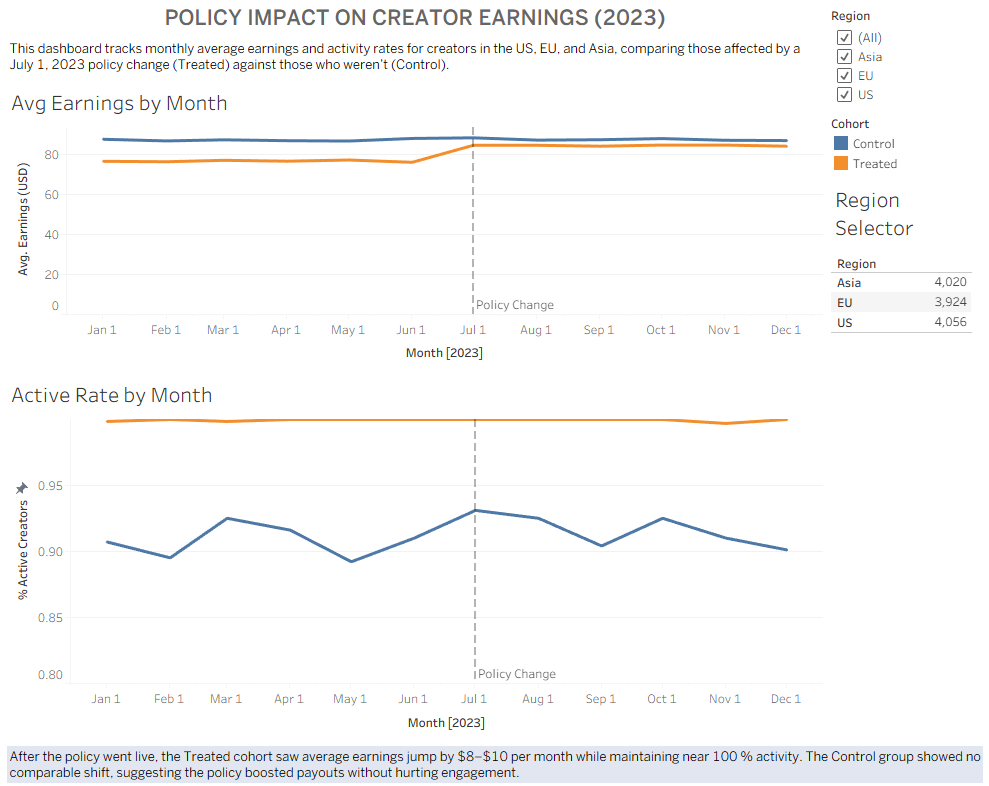

Layout of this report page (visuals, bound fields, positions):
{"tool":"tableau","page":{"name":"Policy Impact Dashboard","canvas":[1000,800],"ordinal":0},"visuals":[{"type":"text","box":[8,8,824,30.2]},{"type":"filter","title":"Avg Earnings by Month","param":"[federated.1627lmg0a1fsde1gllwhy0zpxaru].[none:region:nk]","box":[832,8,160,108]},{"type":"text","box":[8,38.2,824,46.8]},{"type":"worksheet","title":"Avg Earnings by Month","mark":"Automatic","rows":["earnings"],"cols":["month"],"box":[8,85,824,292.5]},{"type":"legend","title":"Avg Earnings by Month","param":"[federated.1627lmg0a1fsde1gllwhy0zpxaru].[none:Calculation_3612731356251254784:n","box":[832,116,160,66]},{"type":"worksheet","title":"Region Selector","mark":"Automatic","rows":["region"],"box":[832,182,160,160]},{"type":"worksheet","title":"Active Rate by Month","mark":"Automatic","rows":["Calculation_3612731356252647425"],"cols":["month"],"box":[8,377.5,824,369.5]},{"type":"text","box":[8,747,984,45]}]}

Visuals, with their boxes in screenshot pixels (x1, y1, x2, y2), scaled from the page's 1000x800 canvas onto the 989x786 screenshot:
text: <bbox>8, 8, 823, 38</bbox>
"Avg Earnings by Month" filter: <bbox>823, 8, 981, 114</bbox>
text: <bbox>8, 38, 823, 84</bbox>
"Avg Earnings by Month" worksheet: <bbox>8, 84, 823, 371</bbox>
"Avg Earnings by Month" legend: <bbox>823, 114, 981, 179</bbox>
"Region Selector" worksheet: <bbox>823, 179, 981, 336</bbox>
"Active Rate by Month" worksheet: <bbox>8, 371, 823, 734</bbox>
text: <bbox>8, 734, 981, 778</bbox>
